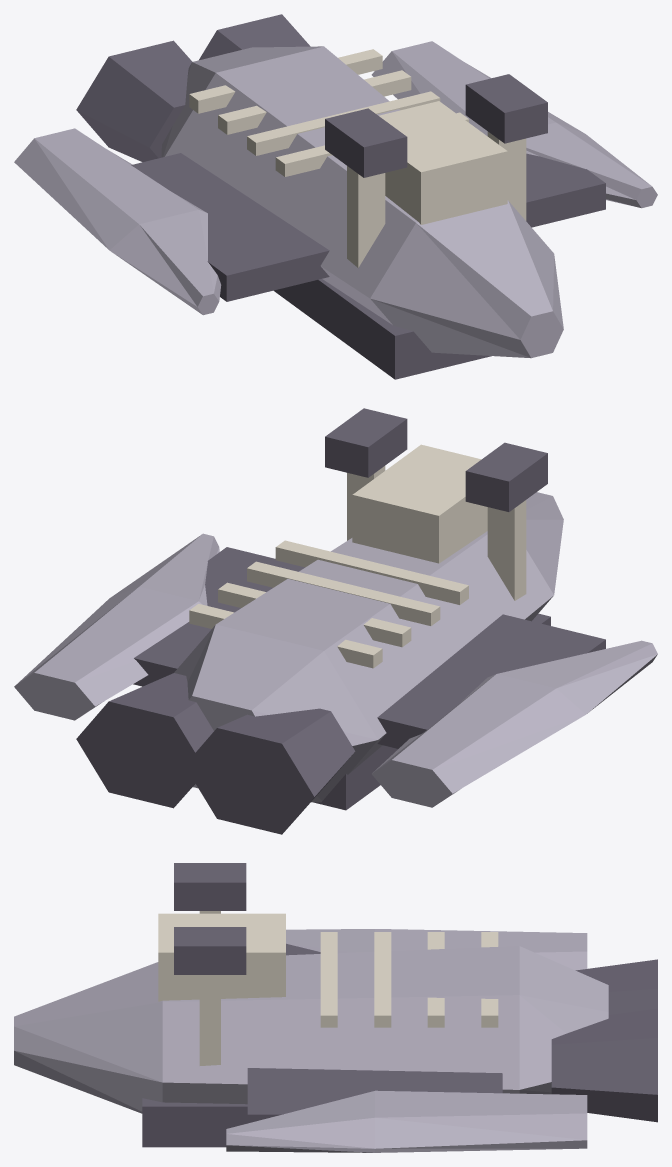
The picture shows the model from 3 angles, top to bottom: view 1: azimuth 30°, elevation 25°; view 2: azimuth 150°, elevation 25°; view 3: azimuth 270°, elevation 25°; orthographic projection. The views are drawn at different scales.
Bounding box in the file's own units: 4.33 × 1.94 × 5.46.
